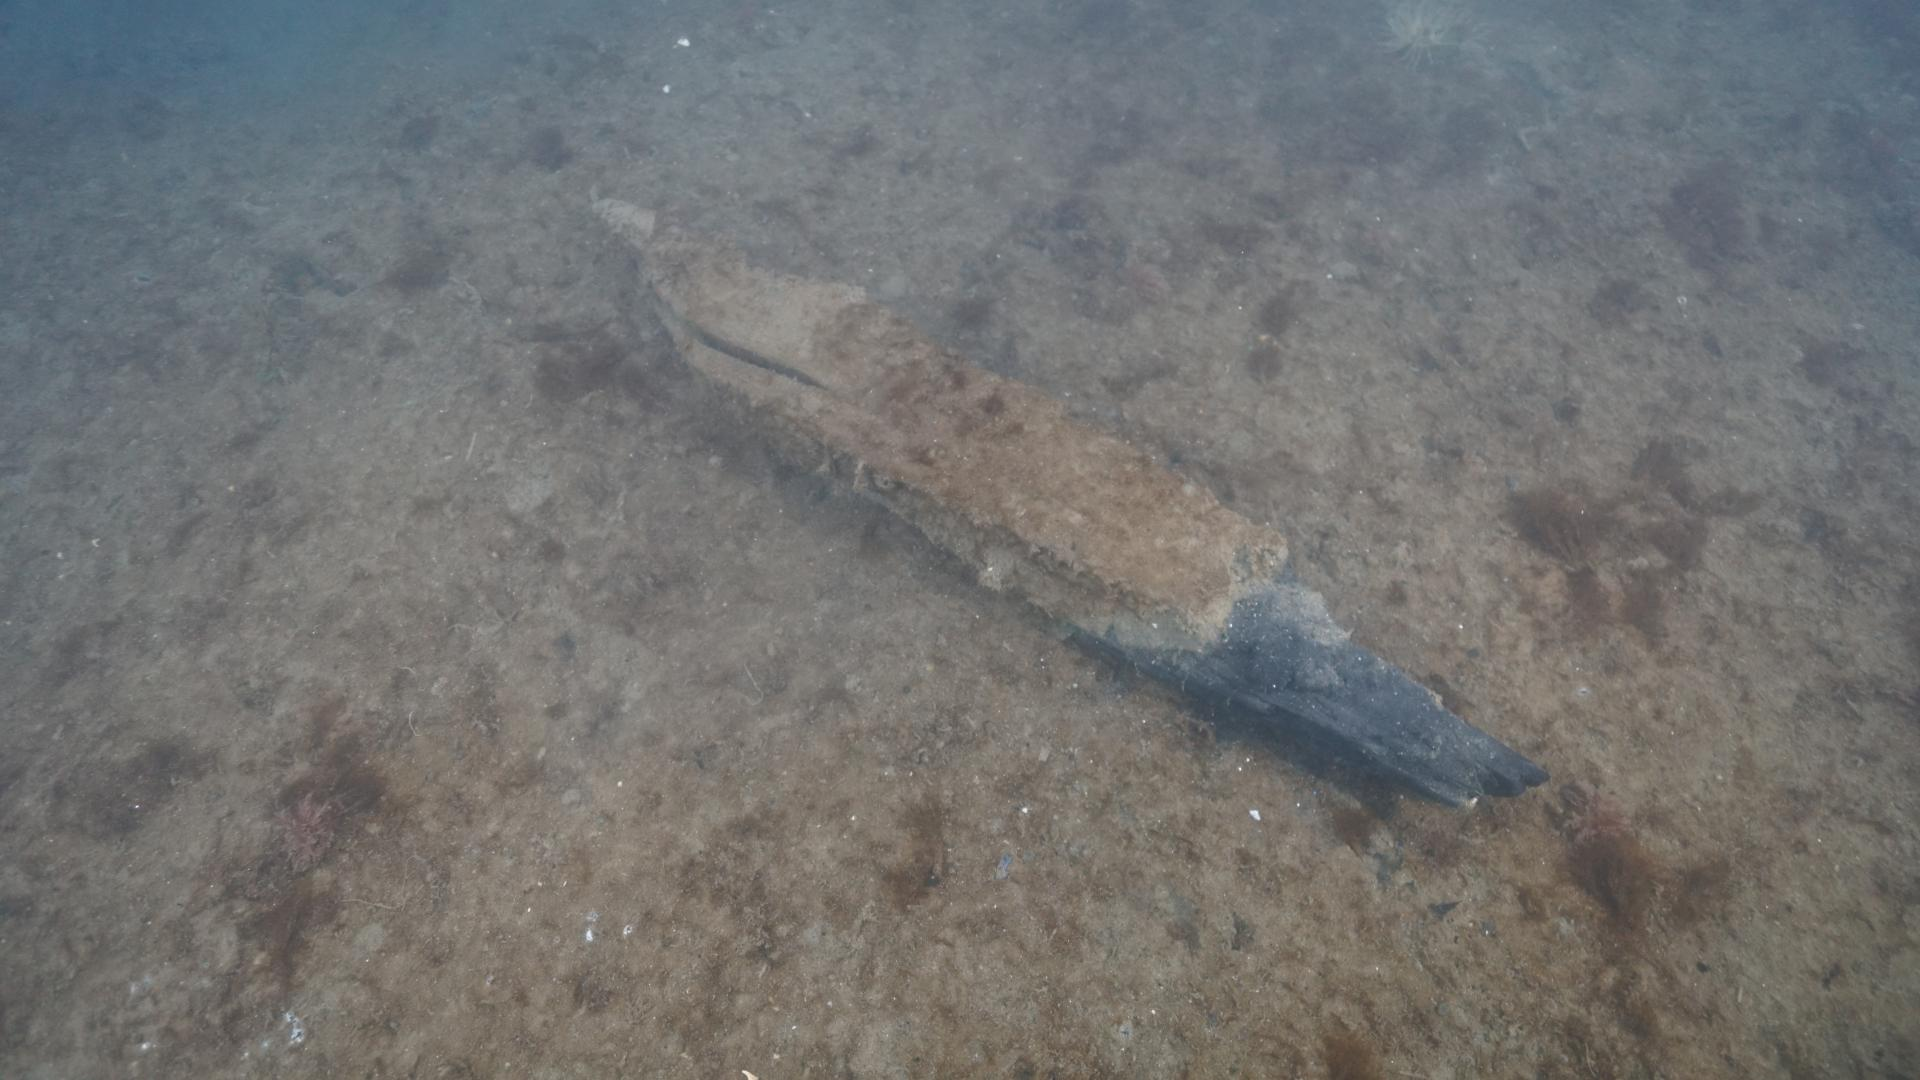wood: (585, 185, 1553, 811)
